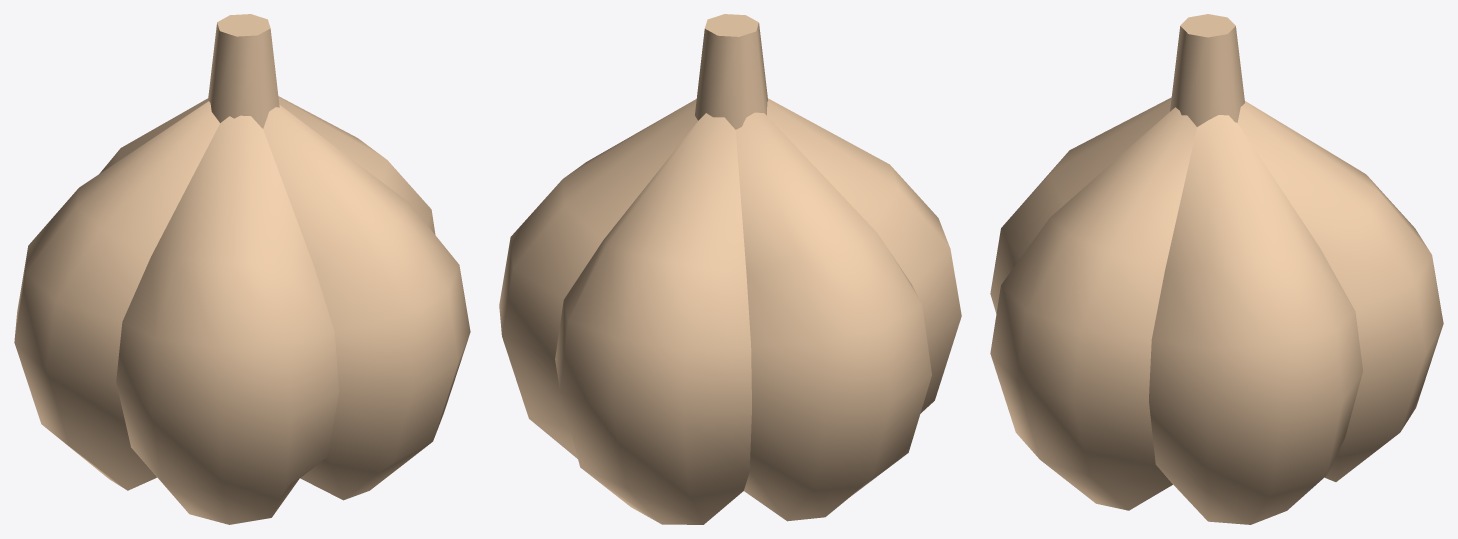
The model's file is Toi song.FBX.
The picture shows the model from 3 angles, left to right: view 1: azimuth 30°, elevation 25°; view 2: azimuth 150°, elevation 25°; view 3: azimuth 270°, elevation 25°; orthographic projection.
Visible parts, largest first — view 1: Sphere038; view 2: Sphere038; view 3: Sphere038.
Boxes of the visible parts, x1,y1,x2,y2 form: Sphere038: (14, 14, 470, 524); Sphere038: (499, 14, 961, 524); Sphere038: (990, 14, 1443, 524).
Bounding box in the file's own units: 1.63 × 1.75 × 1.62.
